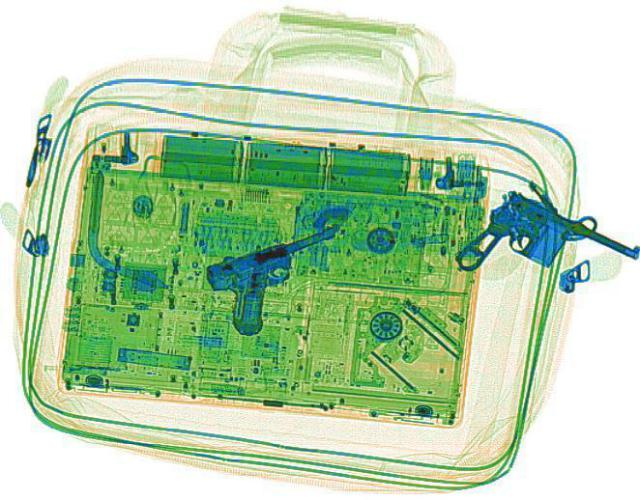Gun: (440, 186, 638, 320), (195, 222, 379, 336)
